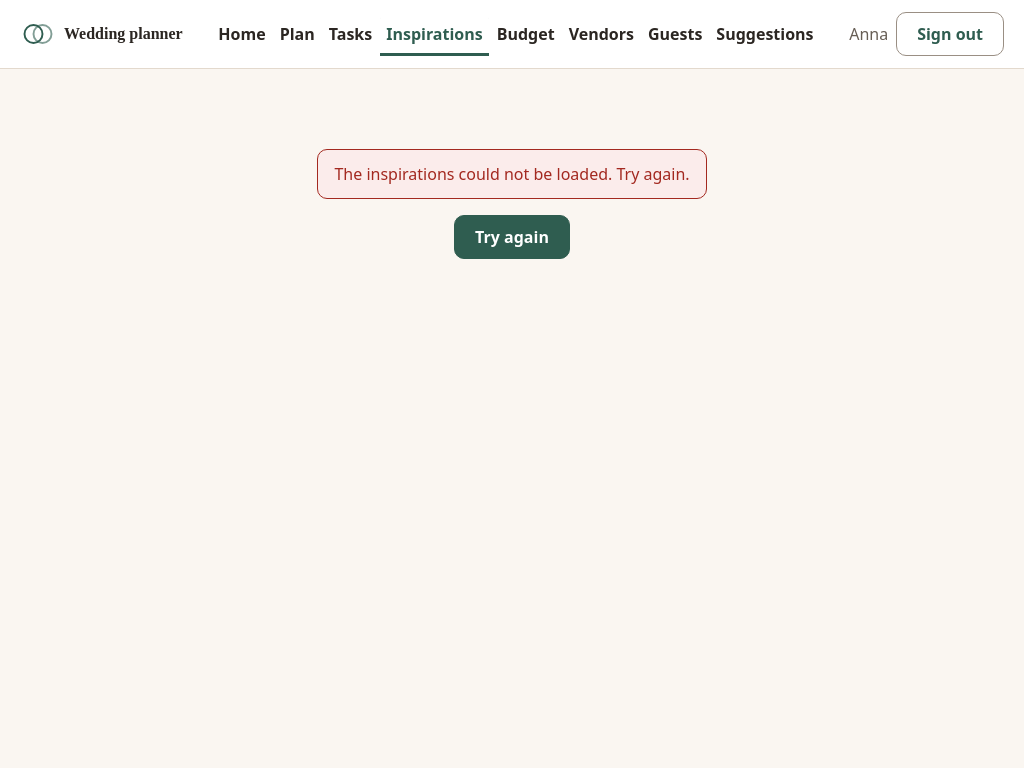
the board of inspirations › offers to try again when the server cannot be reached
Check: the text "The inspirations could not be loaded. Try again." is shown, box [317,149,706,199]
Click the button "Try again" at {"x": 512, "y": 237}, box [454,215,570,259]
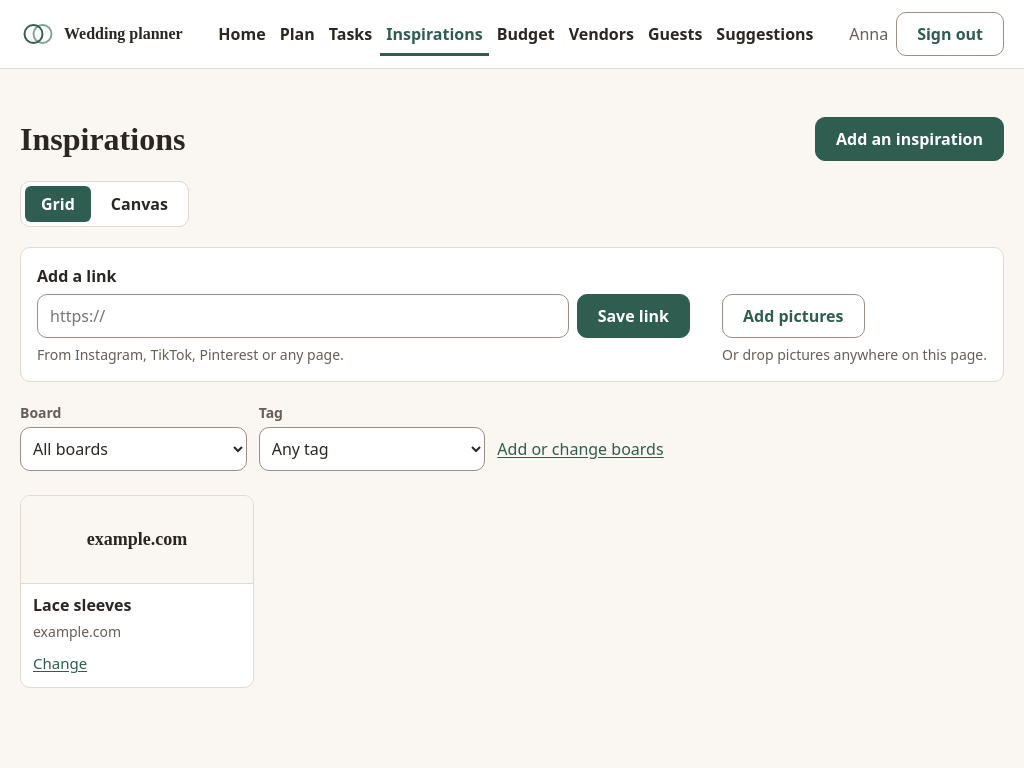
Check: the element "Lace sleeves" is shown, box [20,495,254,688]
